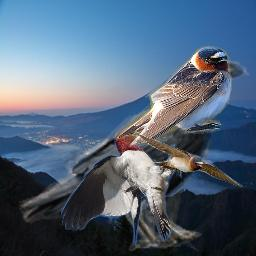Crow: (19, 51, 250, 251)
Swallow: (116, 46, 232, 149), (132, 130, 244, 187)
Woodpecker: (61, 125, 182, 246)
